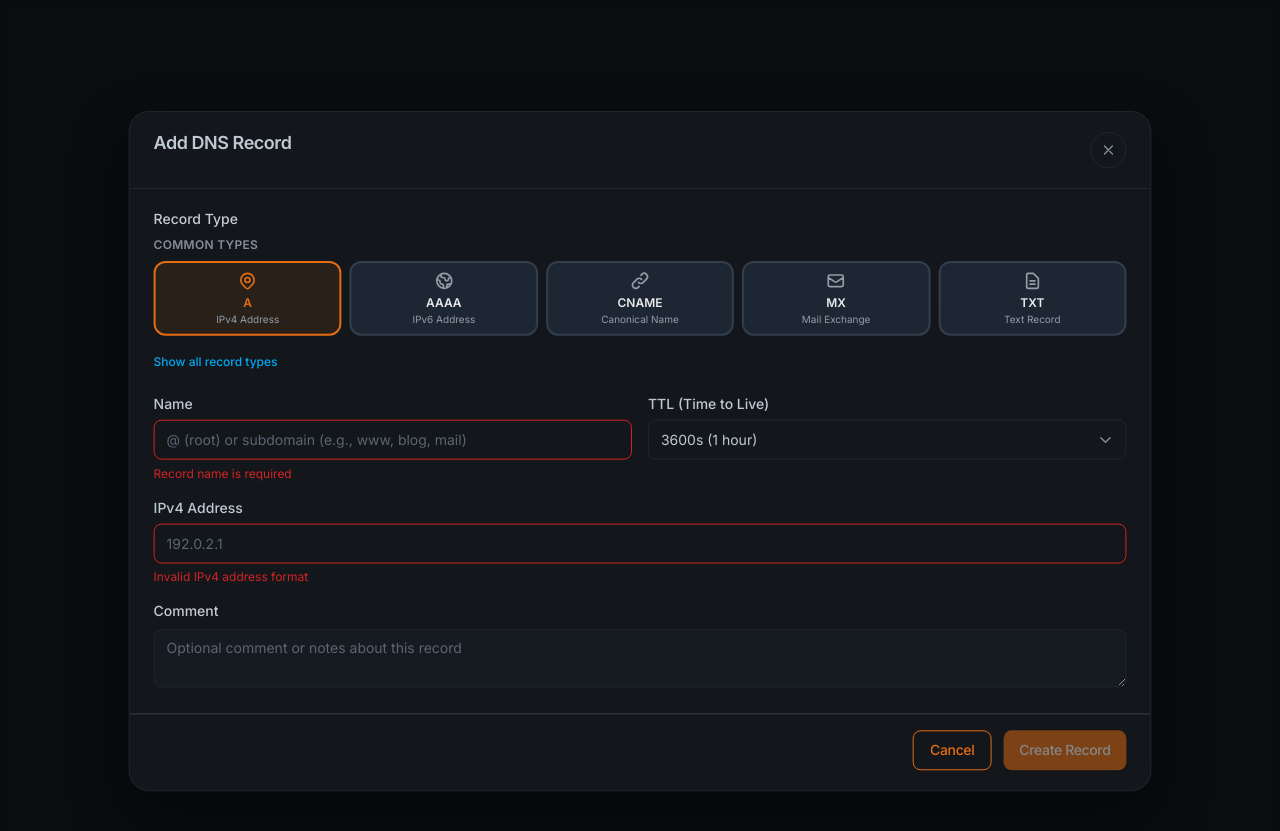
Test: ManageDNSRecordModal › filters all-types results strictly by search and does not pin the selected type
Expected: the text "Common Types" is shown, [154,237,258,252]
Click the button "Show all record types" at (216, 361), box [154,353,278,369]
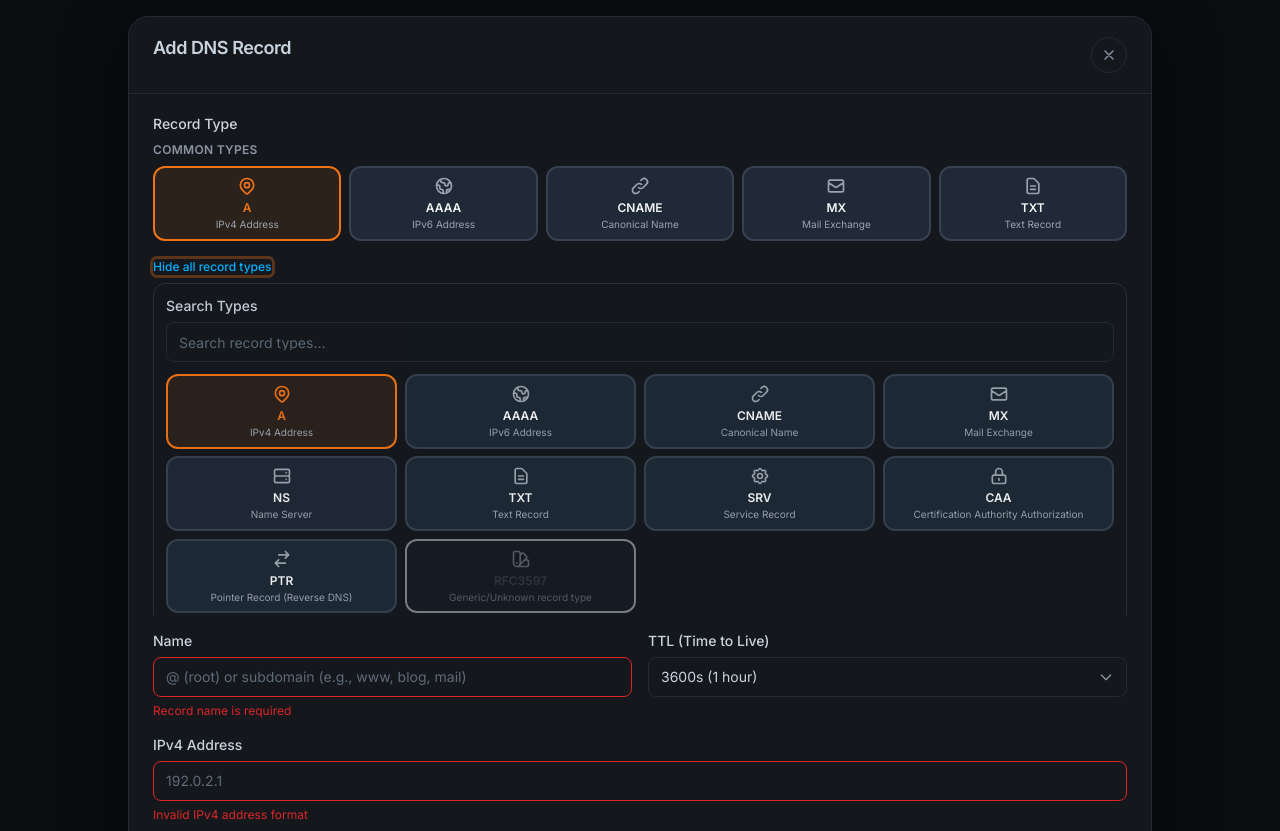
Click the button with test id "record-type-NS" at (282, 493), box [166,456,397,530]
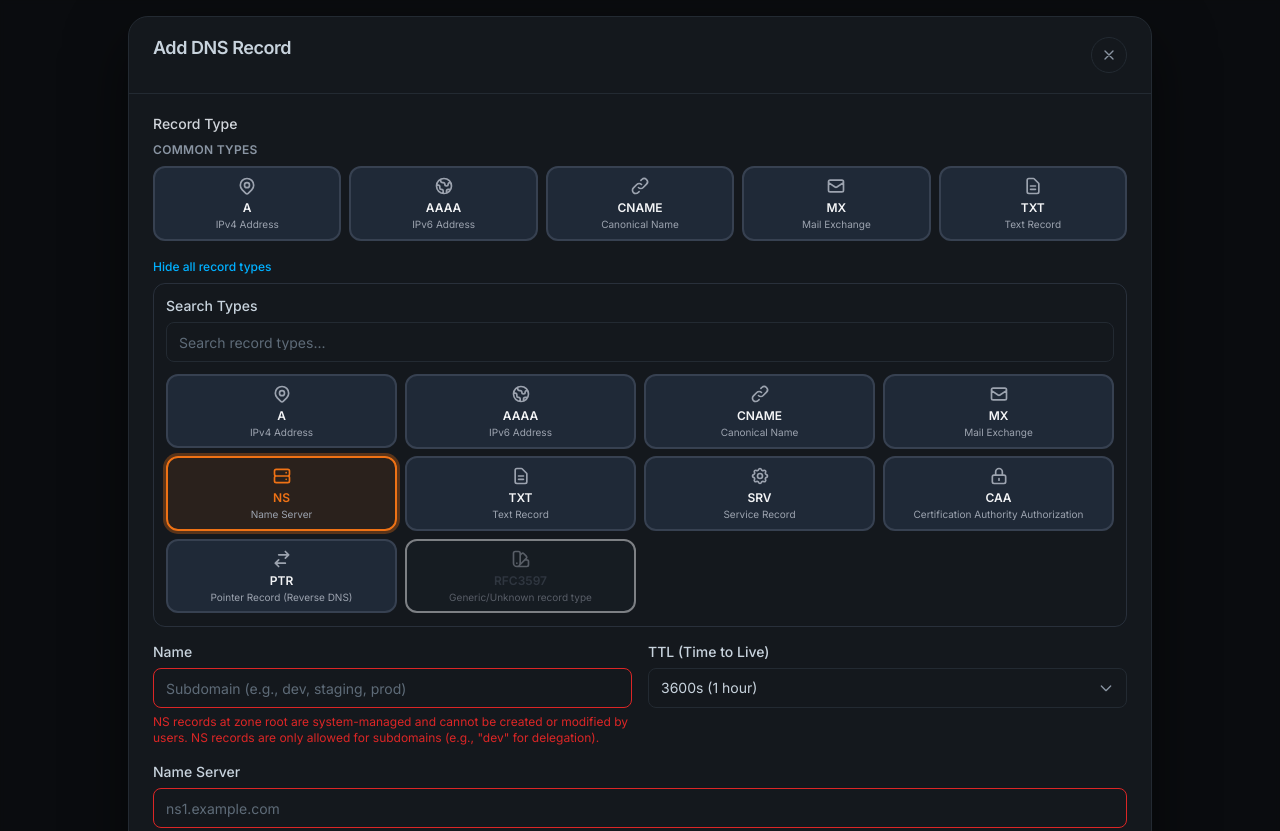
Type "txt" into the field labelled "Search Types" at (640, 342), box [166,322,1114,362]
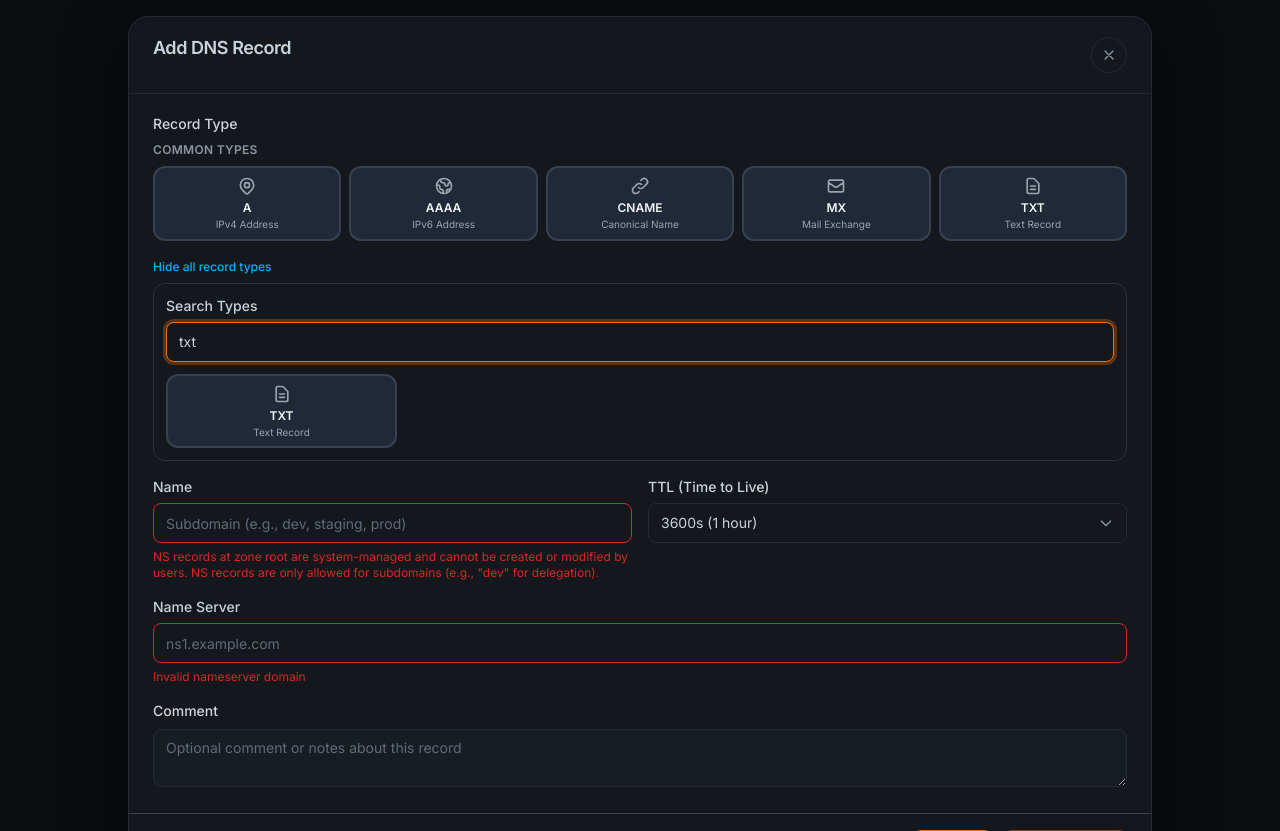
Now the button with test id "record-type-TXT" is shown, box [166,374,397,448]
Now the button with test id "record-type-NS" is gone
